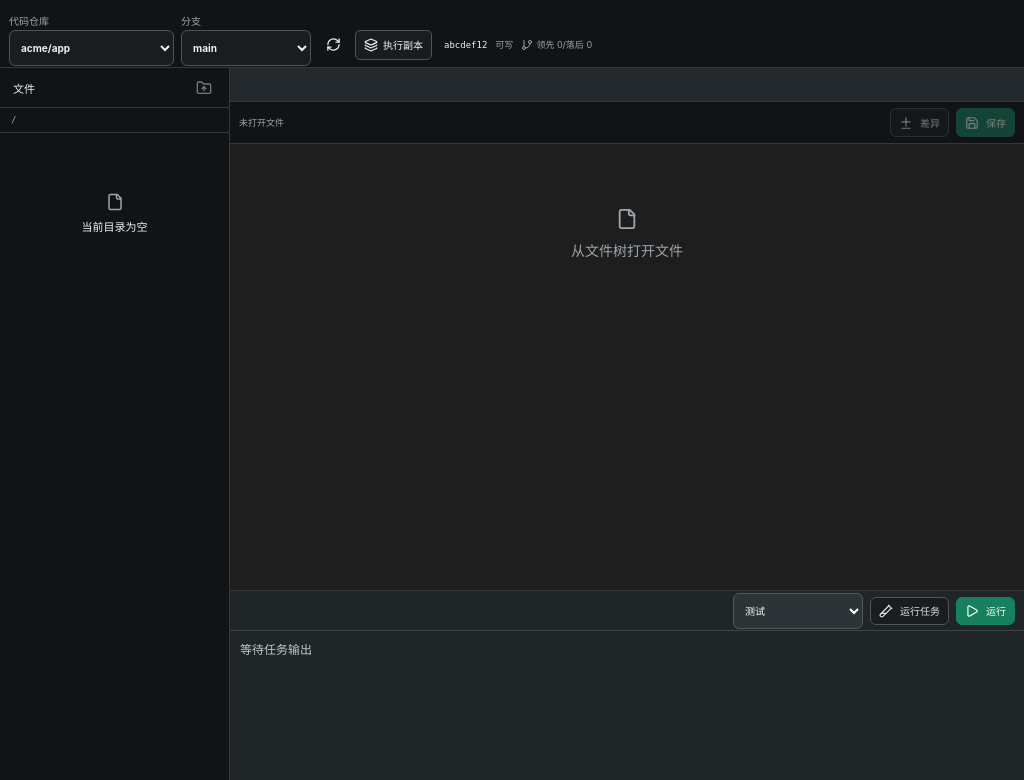
it: execution workspace branch selection › only offers advanced copy selection when a branch has multiple copies
Expected: the text "当前目录为空" is shown, [82, 218, 148, 234]
Step 1. Click the heading named "选择执行副本" → (394, 44), box [355, 30, 432, 60]
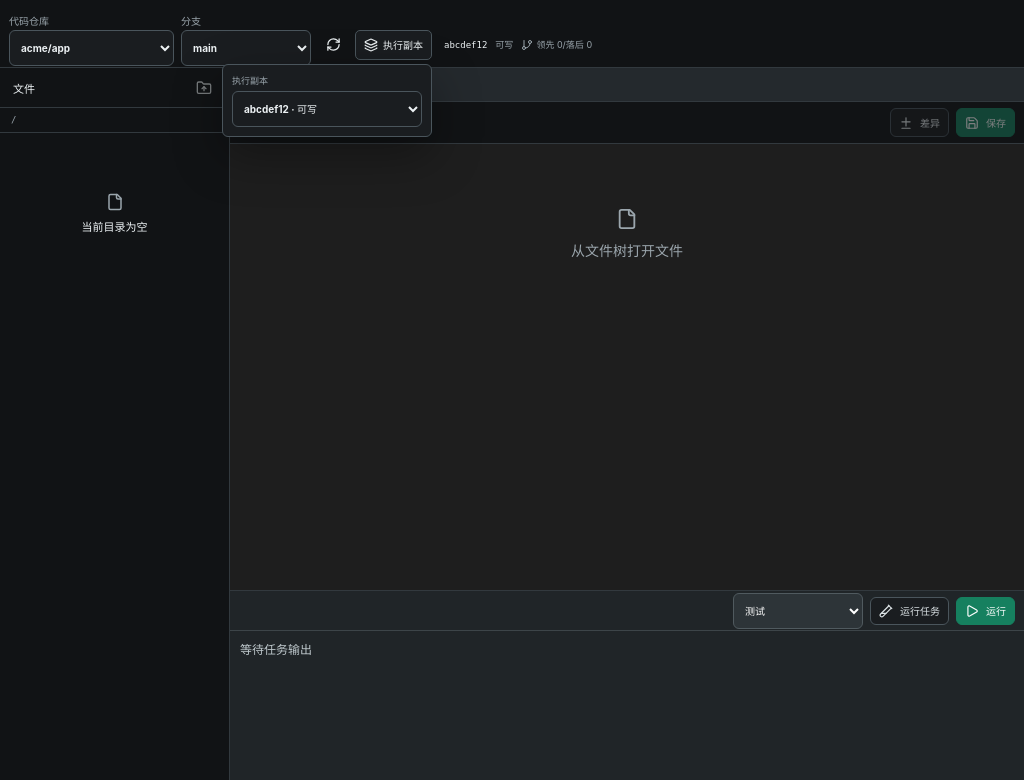
Expected: the dropdown labelled "执行副本" shows "abcdef12 · 可写"
Step 2. Select "11111111 · 只读 · 已过期" in the dropdown labelled "执行副本" → (327, 108), box [232, 90, 422, 126]
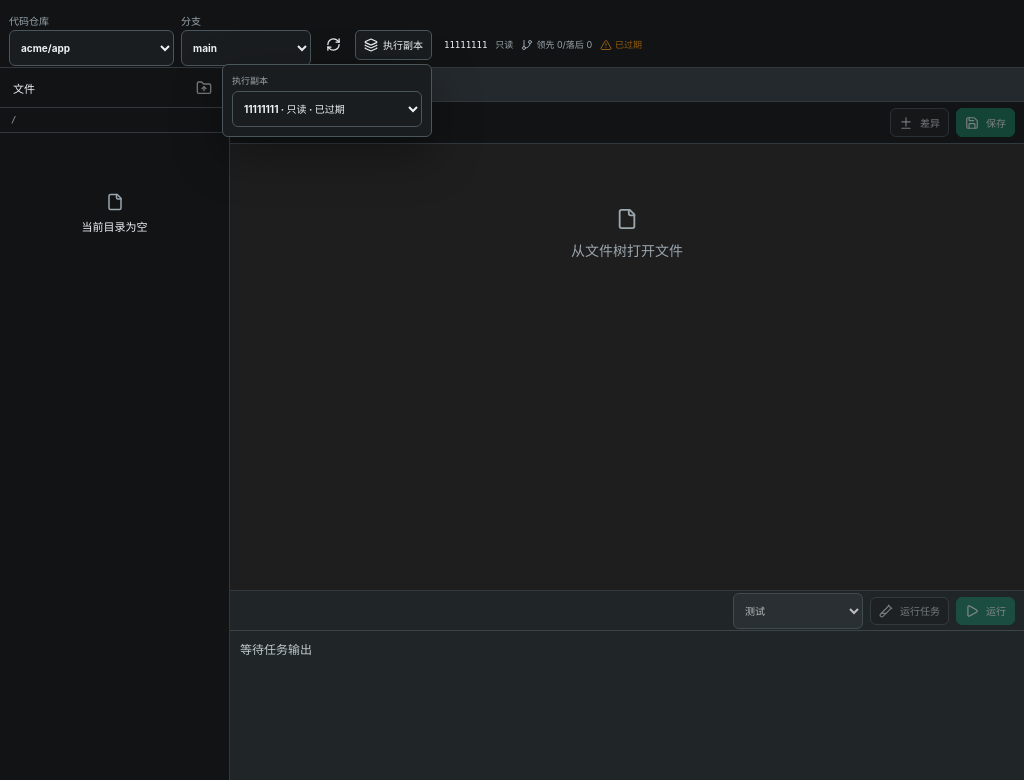
Expected: the text "已过期" is shown, [600, 38, 642, 51]
